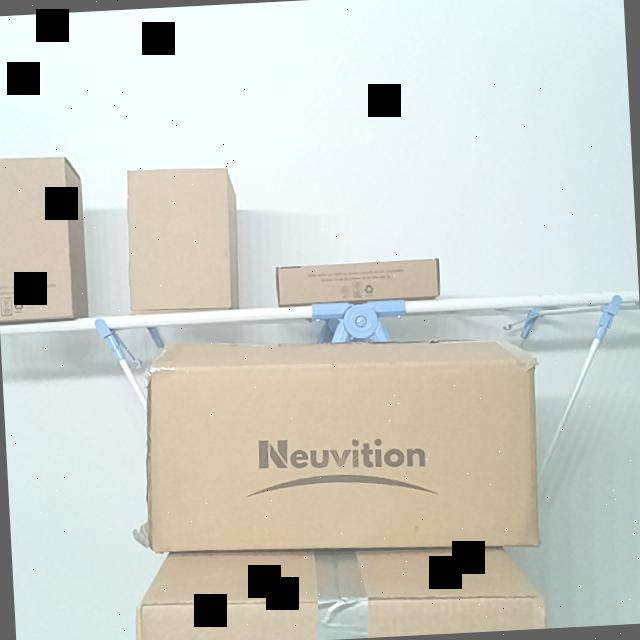box: (148, 347, 540, 560), (138, 589, 546, 640), (127, 165, 235, 312), (0, 155, 74, 322), (277, 259, 440, 305)
